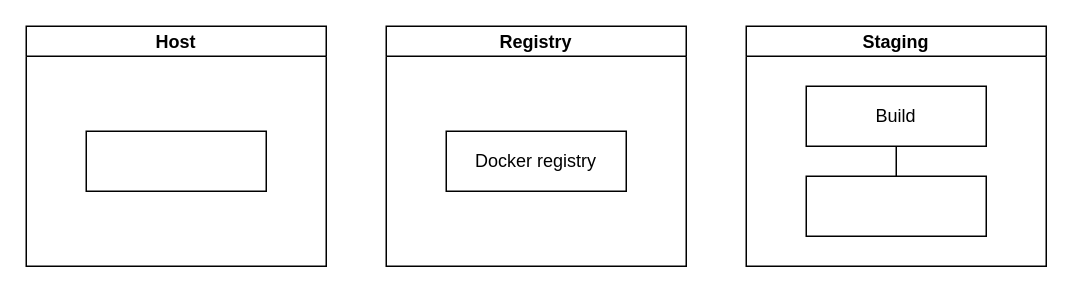
Image size: 1073x293. Some labels were removed from this diagram. The shapes that lost their labels are listed below. From the top down, each one's centre as x and y in pixels, then its label:
At point 175,160: "Application".
At point 895,205: "Test".
